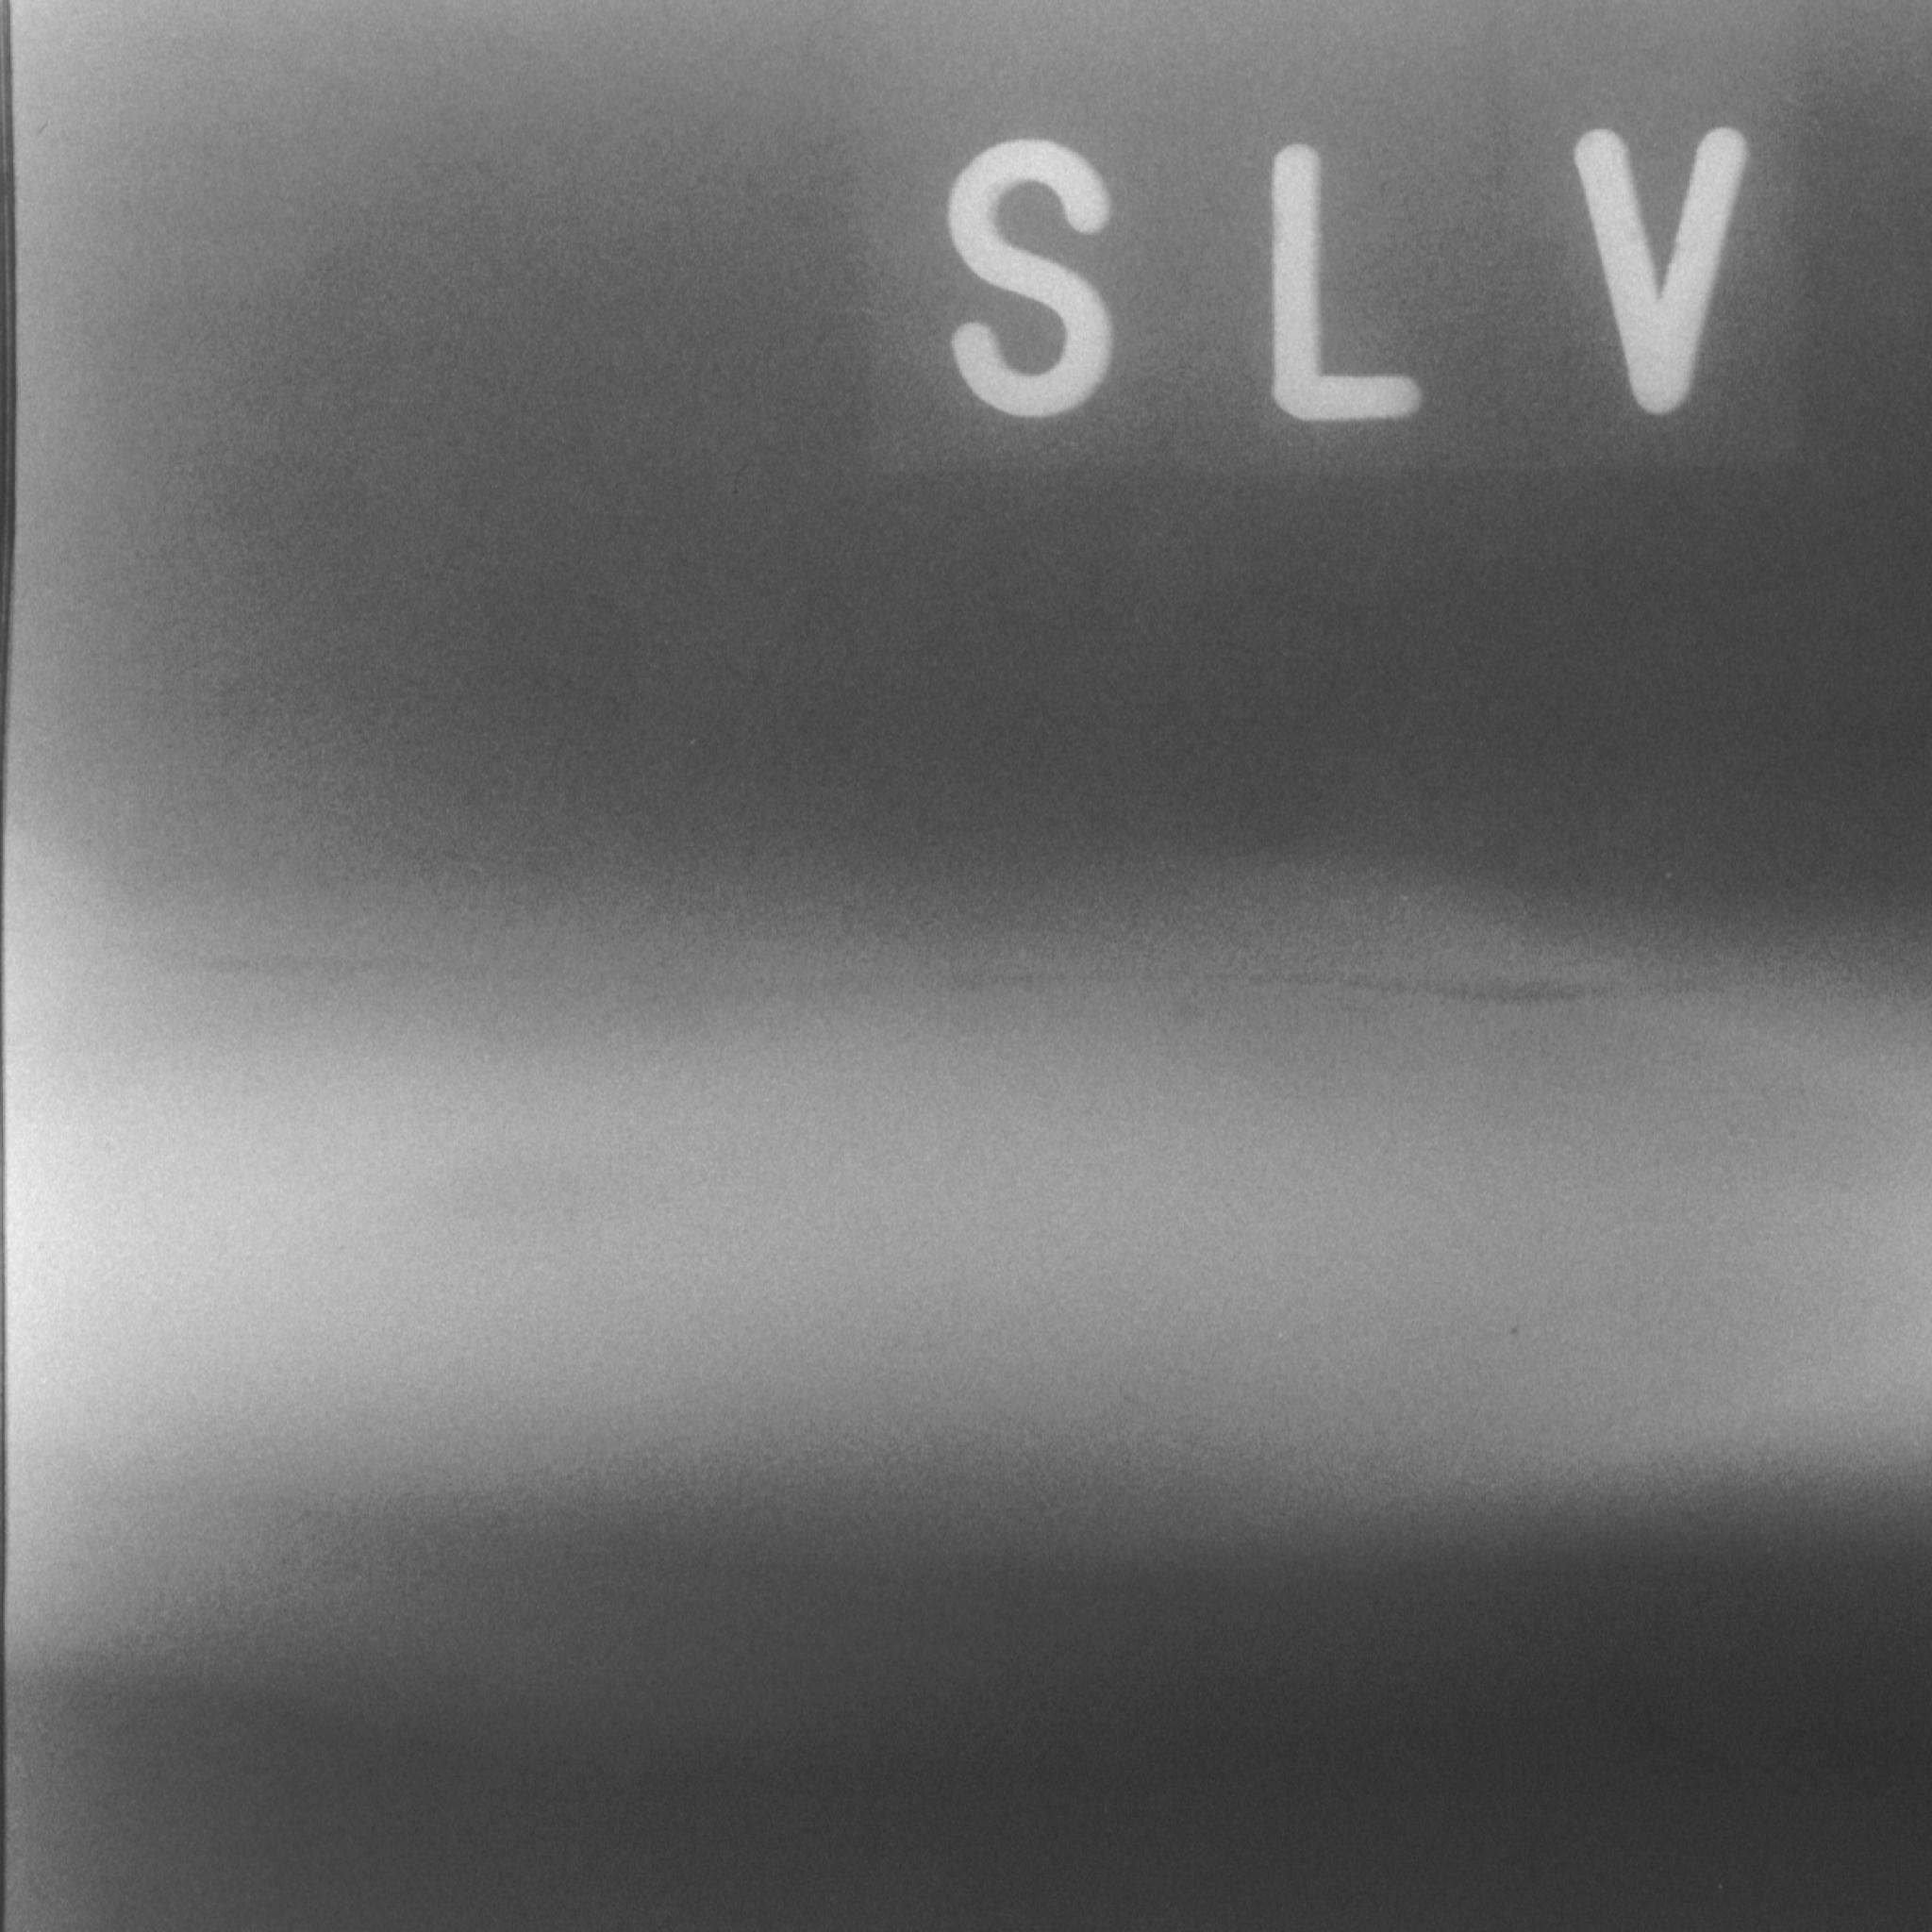Solda Ruim: (0, 833, 1932, 1706)
